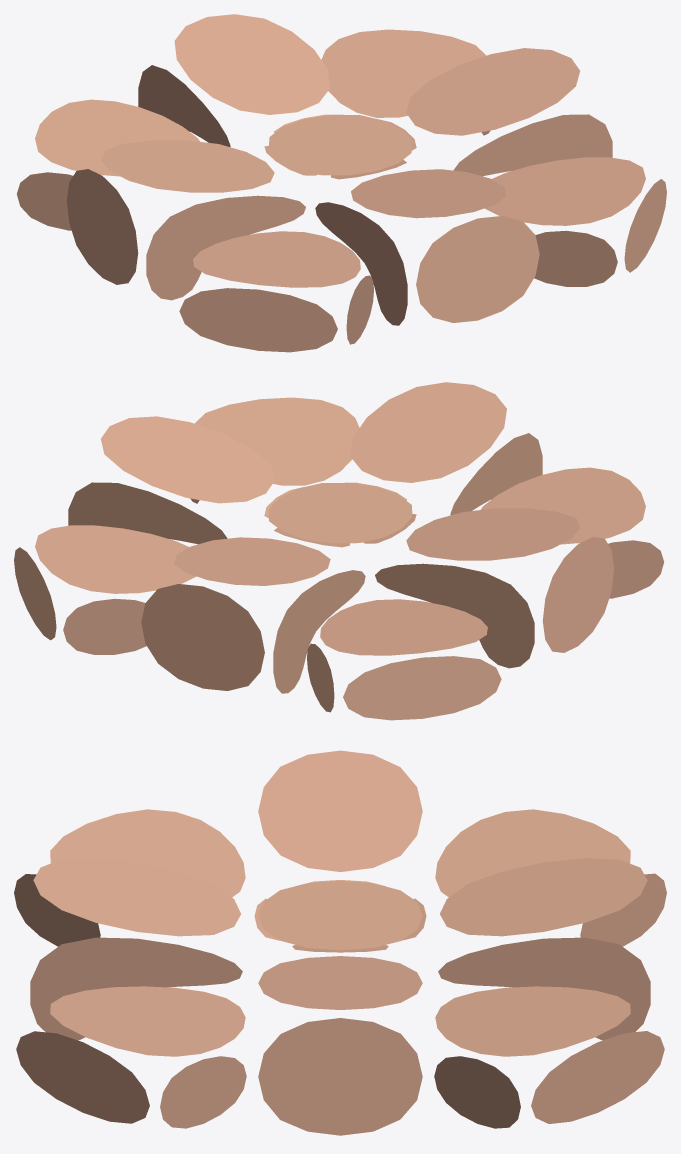
Rendered from campfire_logs.glb.
The picture shows the model from 3 angles, top to bottom: view 1: azimuth 30°, elevation 25°; view 2: azimuth 150°, elevation 25°; view 3: azimuth 270°, elevation 25°; orthographic projection. The views are drawn at different scales.
Visible parts, largest first — view 1: campfire_logs; view 2: campfire_logs; view 3: campfire_logs.
Part boxes in pixels (x1,y1,x2,y2): campfire_logs: [17, 14, 666, 352]; campfire_logs: [14, 382, 663, 720]; campfire_logs: [14, 750, 666, 1135].
Size of the model in its own units: 0.2884 by 0.0619 by 0.2884.
